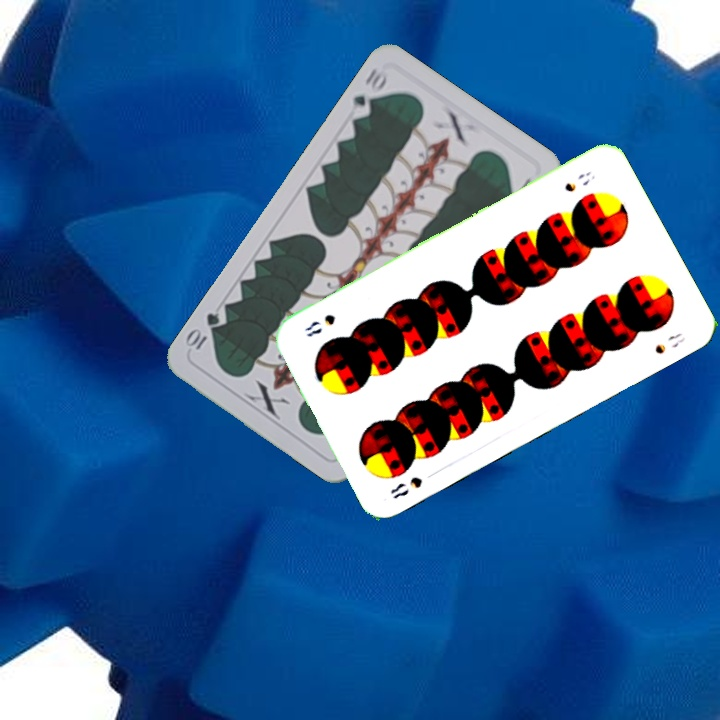G10: (346, 64, 391, 121)
S8: (386, 472, 425, 502), (560, 168, 598, 195)
